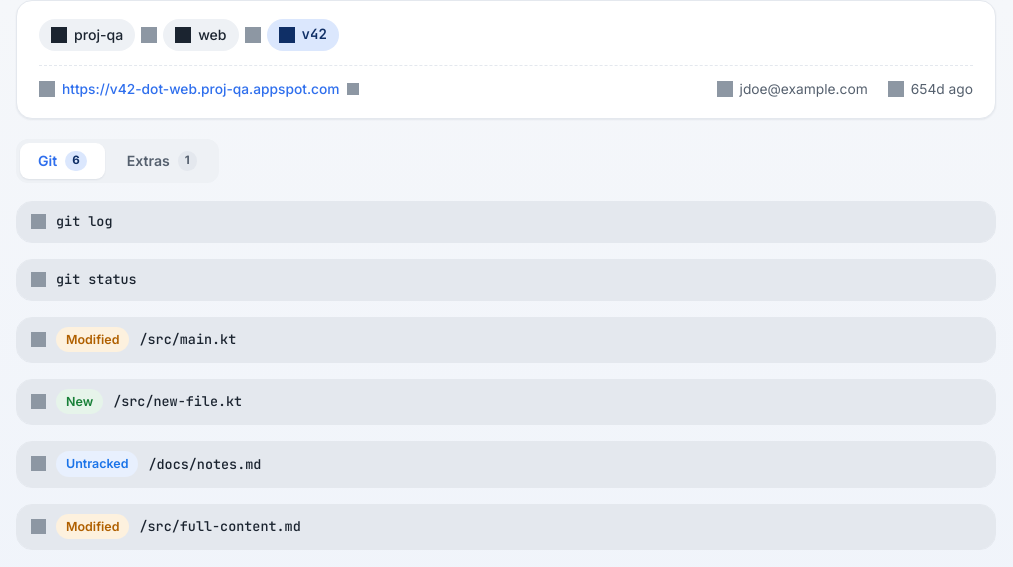
it: FileViewerComponent › should show the tab counts and switch between the Git and Extras panels
The width and height of the screenshot is (1013, 567).
Check: the tab with class "tab-btn" shows "6", box [20,143,105,179]
Click the tab with class "tab-btn" showing "Extras 1": (162, 161) [109,143,215,179]
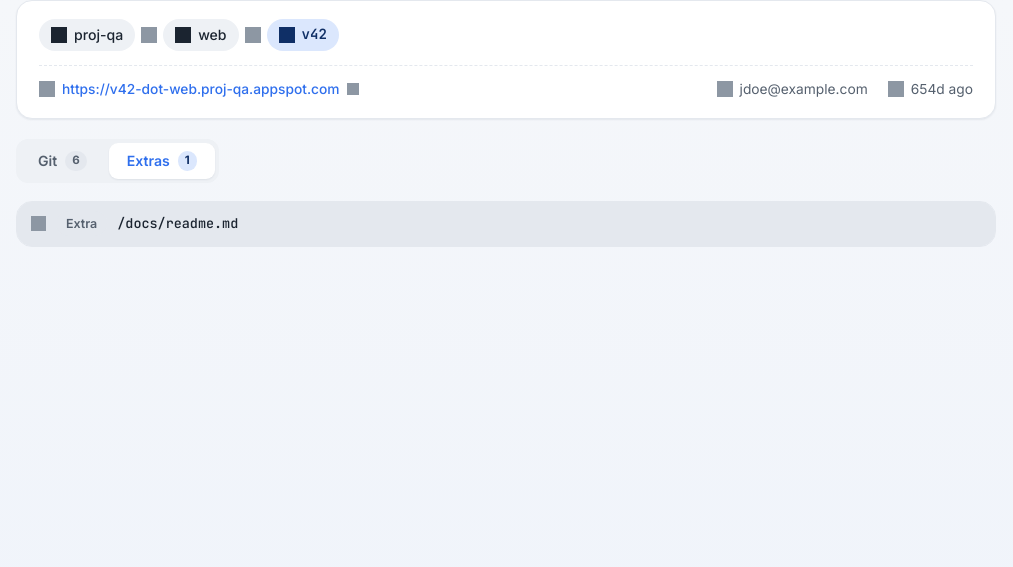
Check: the element with class "file-path" reads "/docs/readme.md", box [117,214,238,232]
Check: the text with class "st-extra" reads "Extra", box [66,216,97,231]
